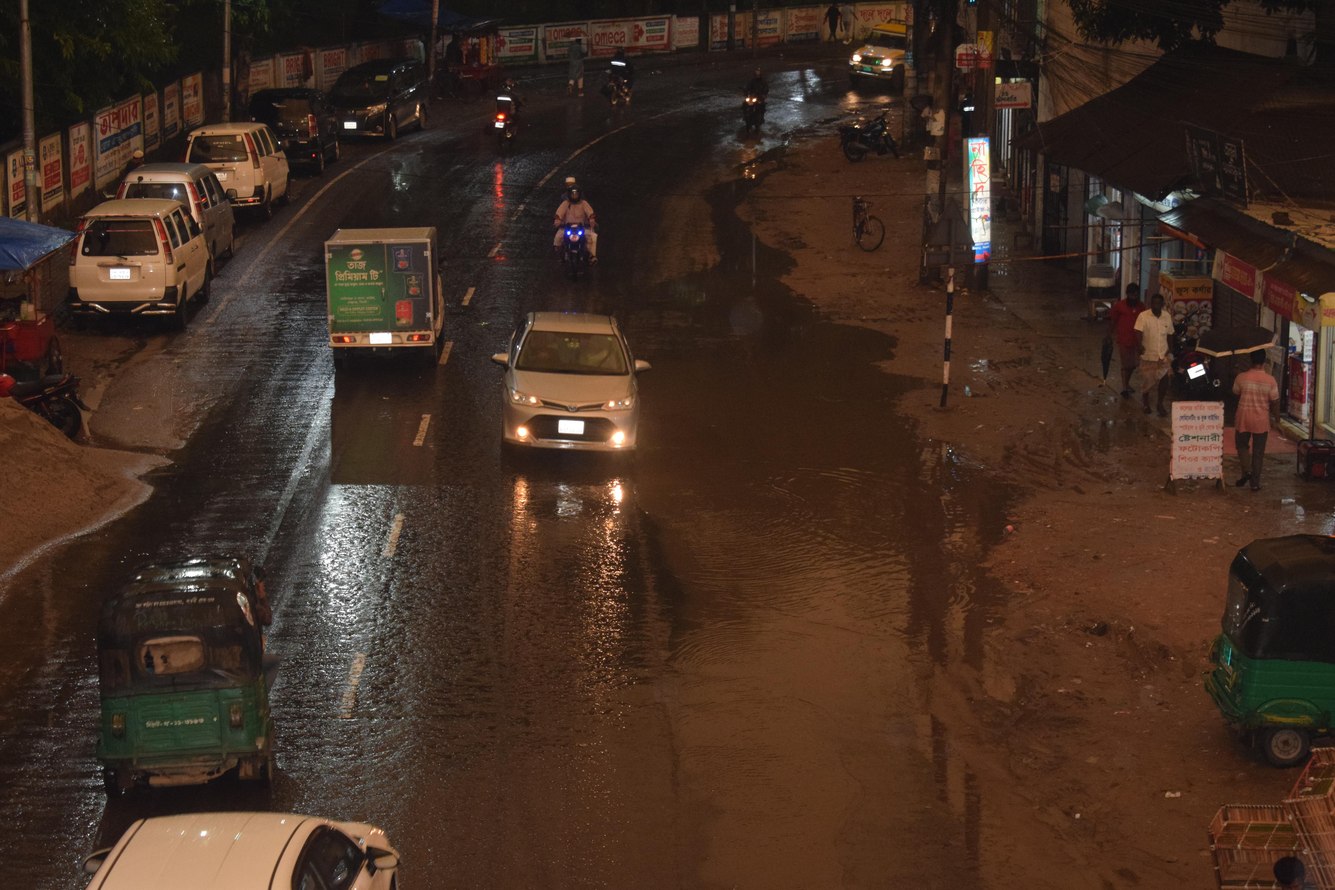Bike: (537, 160, 635, 299), (469, 60, 551, 174), (718, 56, 791, 140), (584, 46, 662, 115)
Car: (467, 284, 674, 510), (57, 776, 451, 890), (32, 196, 242, 360), (161, 100, 316, 228), (101, 150, 261, 268), (318, 35, 452, 146), (245, 65, 360, 186)
Truck: (289, 192, 466, 391)
